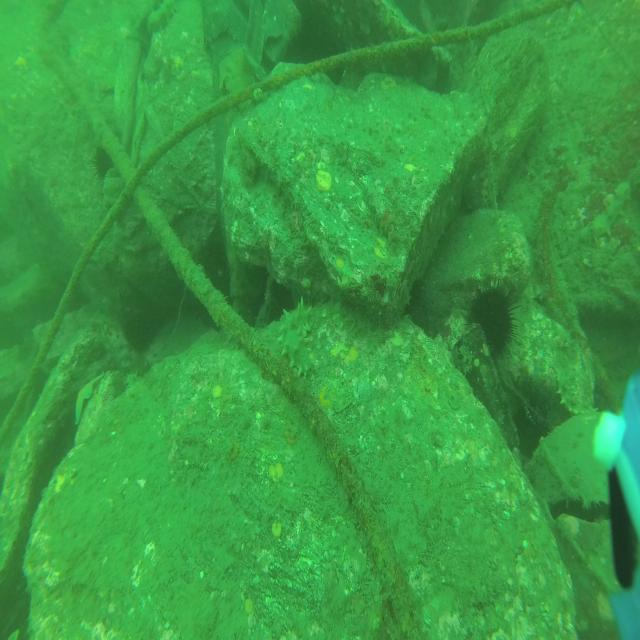echinus: (464, 276, 522, 369), (91, 140, 115, 185)
holothurian: (276, 292, 316, 382), (581, 178, 632, 247), (146, 0, 179, 36)
starfish: (72, 372, 104, 427)
